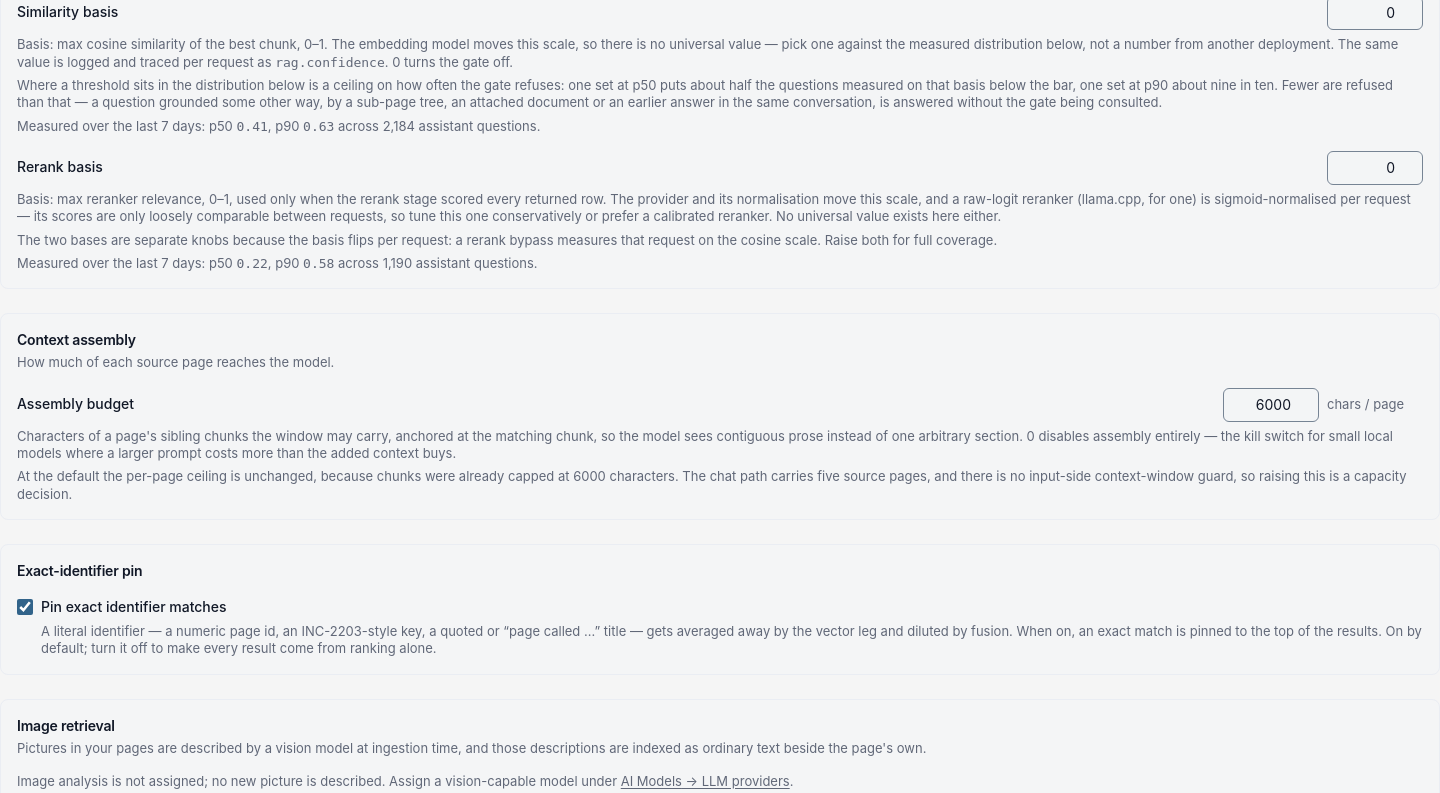
Test case: RetrievalTab — the nine knobs › restores the committed value when the field is emptied
(page scrolled)
Clear the number field labelled "Assembly budget" at (1271, 404), box [1223,388,1319,422]
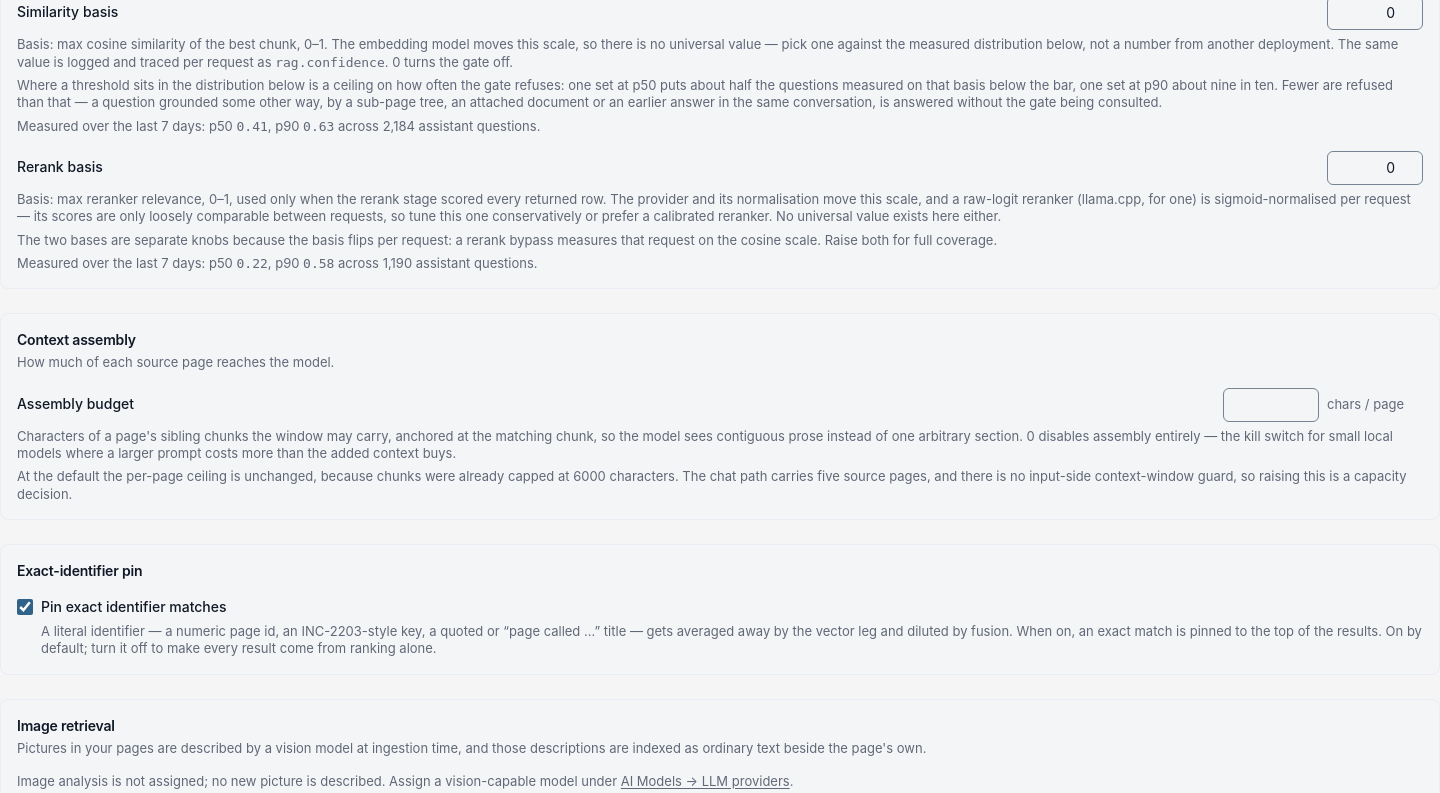
Leave the number field labelled "Assembly budget", box [1223,388,1319,422]
(page scrolled)
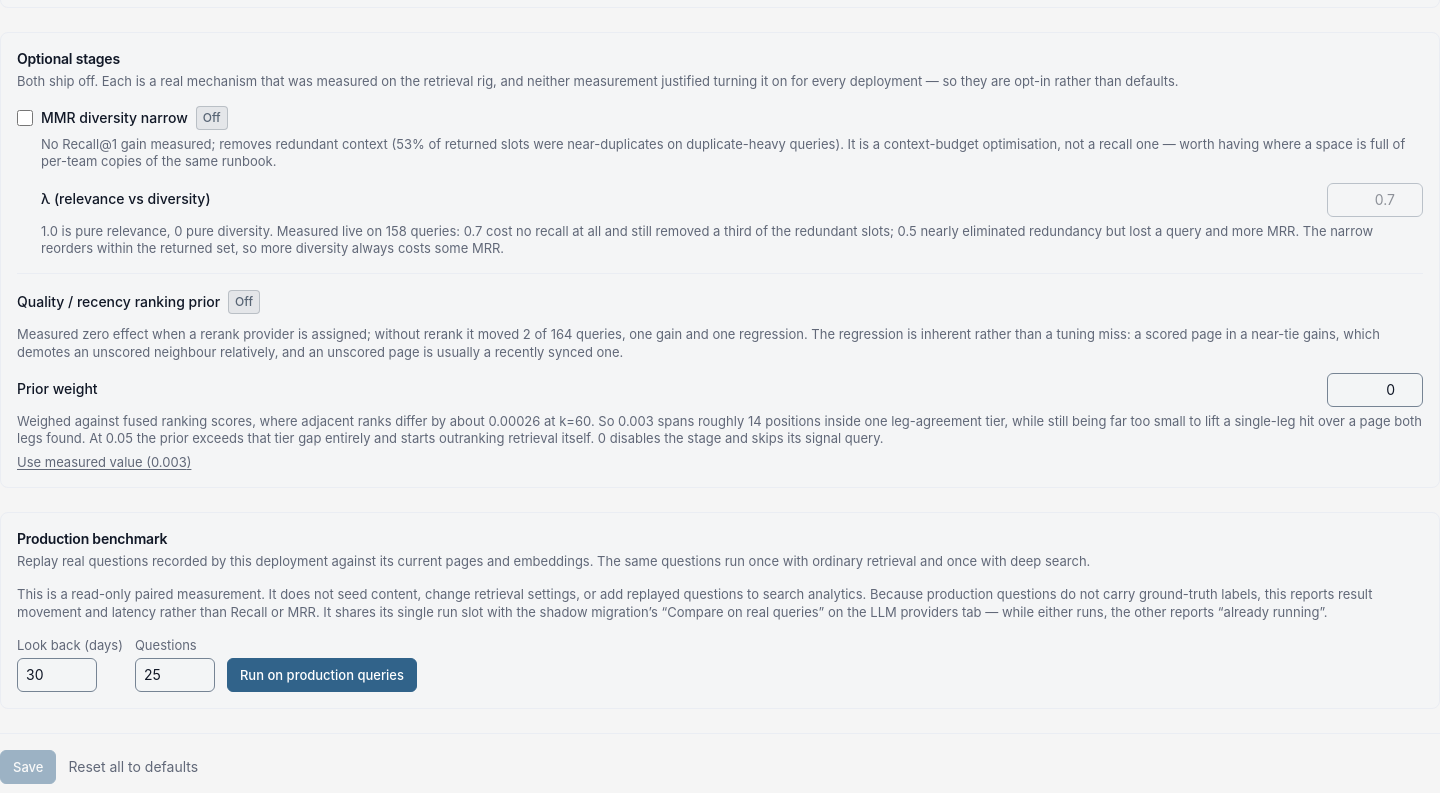
Result: the button with test id "retrieval-save-btn" is disabled at [0,750,56,784]
